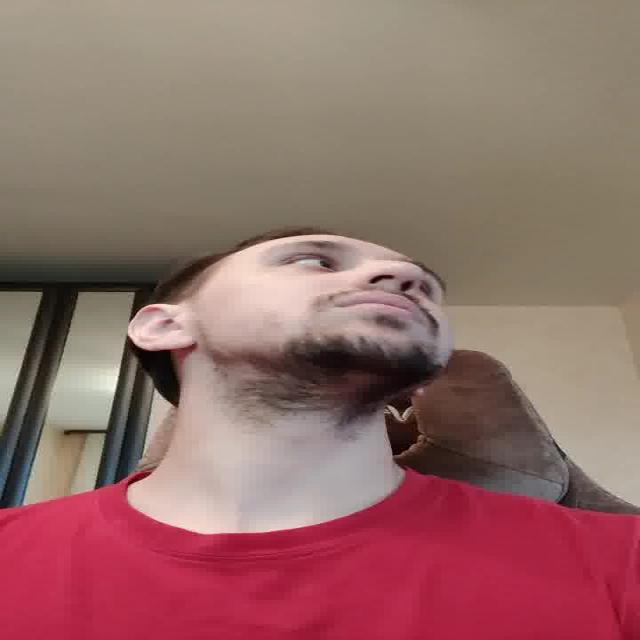earlobe: (128, 304, 197, 353)
